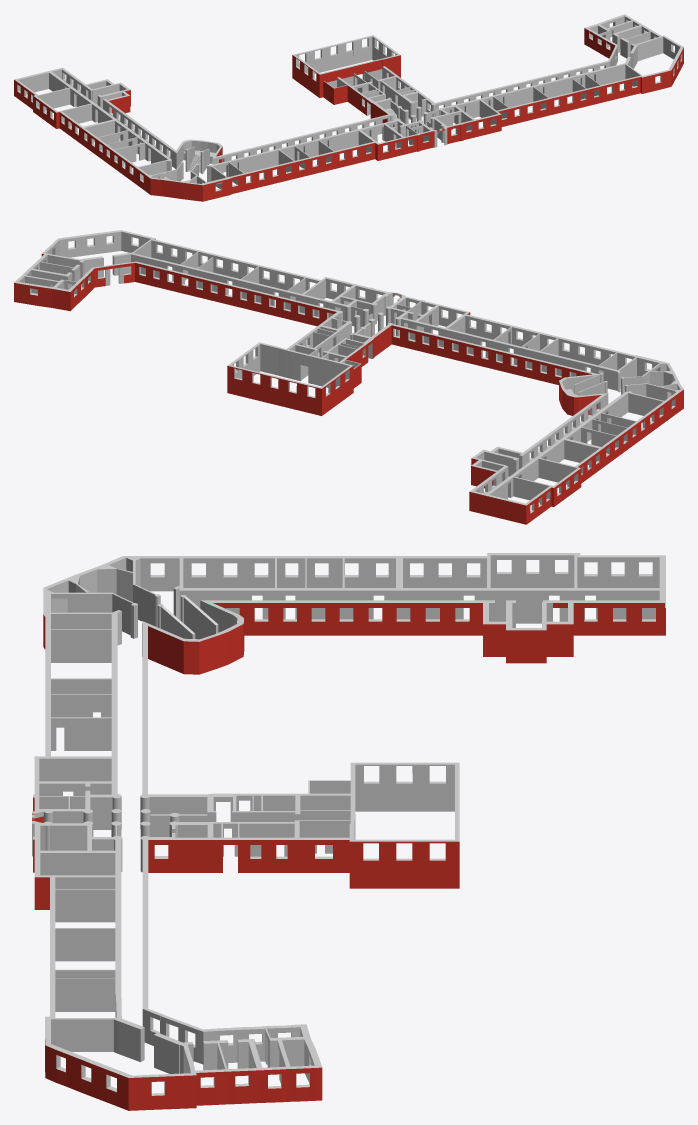
The model's file is Prizemie.gltf.
3 renders of one model, top to bottom at view 1: azimuth 30°, elevation 25°; view 2: azimuth 150°, elevation 25°; view 3: azimuth 270°, elevation 25°, orthographic. The views are drawn at different scales.
Parts seen in each view (by area): view 1: Plane; view 2: Plane; view 3: Plane.
Part boxes in pixels (x1,y1,x2,y2): Plane: (14,14,683,201); Plane: (14,230,683,524); Plane: (32,553,665,1110).
Bounding box in the file's own units: 1.61 × 0.0671 × 0.8219.
